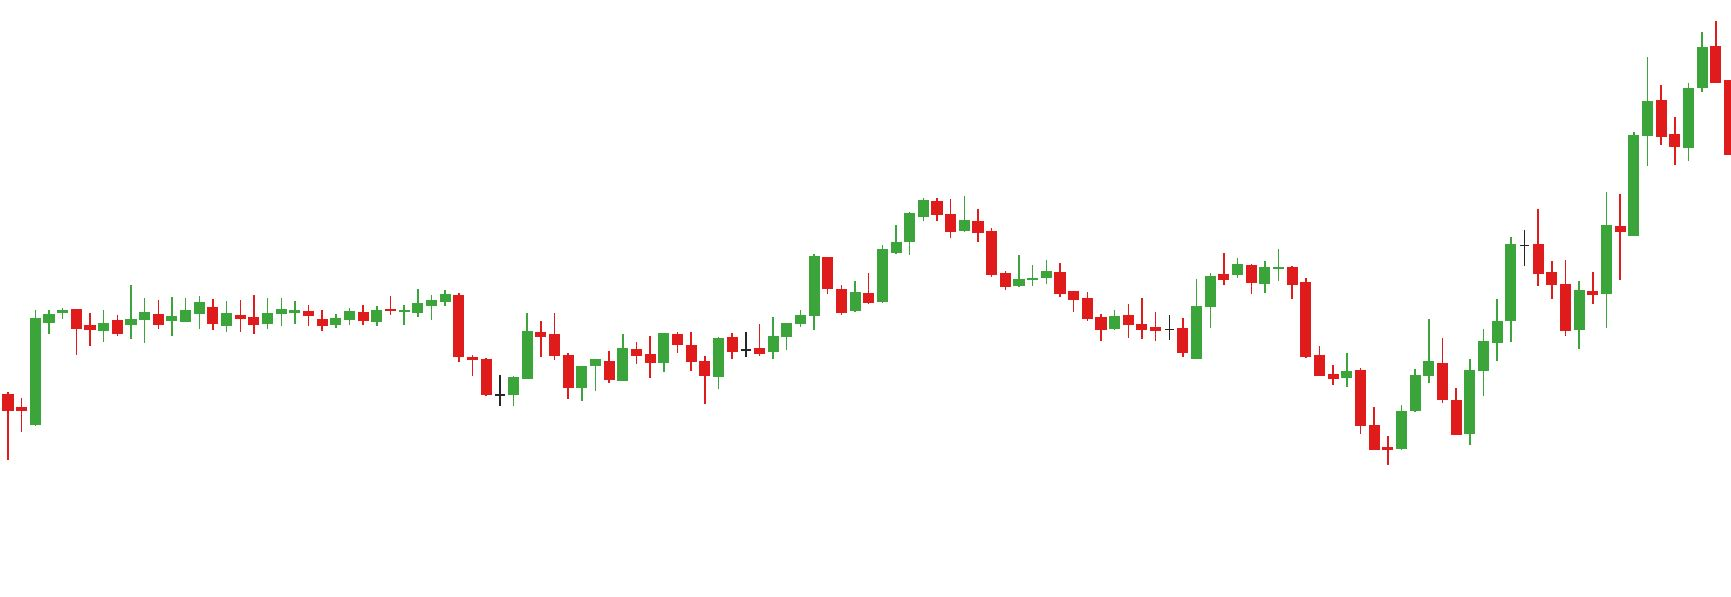buy: (590, 348, 713, 407)
sell: (1039, 252, 1229, 319)
